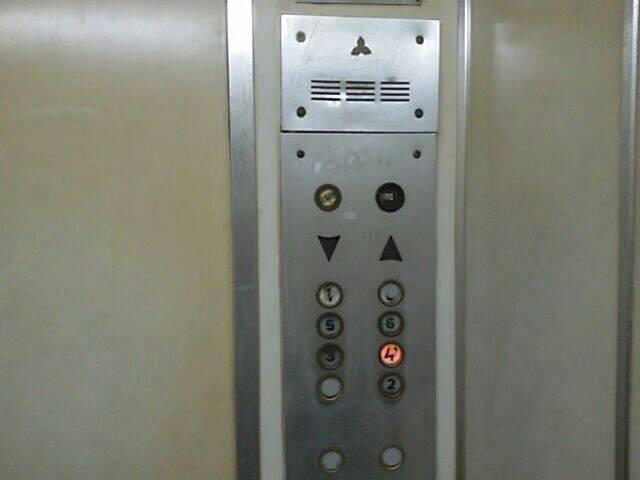2: (377, 372, 403, 397)
3: (316, 342, 343, 369)
5: (315, 311, 343, 338)
6: (377, 310, 403, 336)
blur: (374, 181, 404, 212), (313, 182, 341, 211), (376, 279, 404, 306), (316, 281, 342, 307), (377, 341, 403, 366)
unknown: (317, 446, 343, 473), (317, 374, 343, 400), (378, 444, 404, 469)
